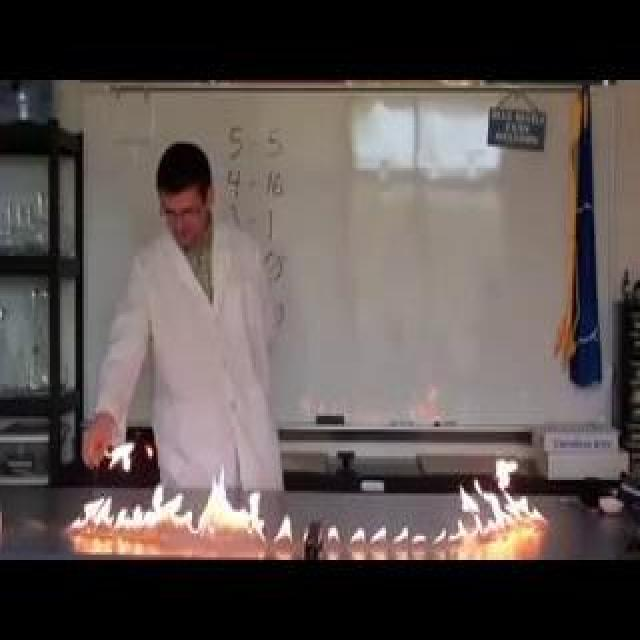Fire: (305, 122, 488, 496)
